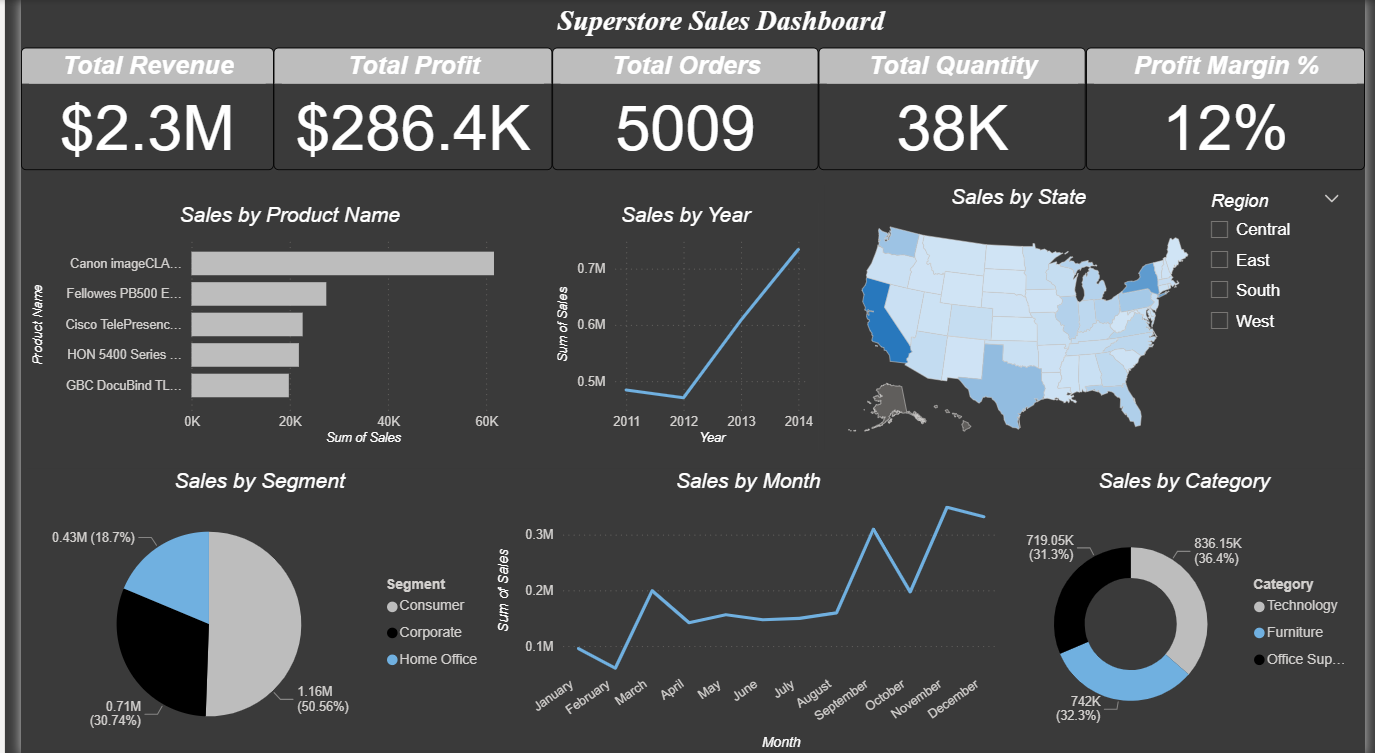

This screenshot's page, from the dashboard's own definition file:
{"tool":"powerbi","page":{"name":"Page 1","canvas":[1280,720],"ordinal":0},"visuals":[{"type":"card","title":"Total Revenue","fields":{"Values":["Superstore.Total Revenue"]},"box":[0,45.2,240.5,116.7],"z":0},{"type":"barChart","title":"Sales by Product Name","fields":{"Category":["Superstore.Product Name"],"Y":["Sum(Superstore.Sales)"]},"box":[6,192.9,500,235.7],"z":1000},{"type":"pieChart","title":"Sales by Segment","fields":{"Category":["Superstore.Segment"],"Y":["Sum(Superstore.Sales)"]},"box":[6.2,446.2,442.5,273.8],"z":2000},{"type":"card","title":"Total Profit","fields":{"Values":["Superstore.Total Profit"]},"box":[240.5,45.2,265.5,116.7],"z":3000},{"type":"card","title":"Profit Margin %","fields":{"Values":["Superstore.Profit Margin %"]},"box":[1014.3,45.2,265.5,116.7],"z":4000},{"type":"card","title":"Total Orders","fields":{"Values":["Superstore.Total Orders"]},"box":[506,45.2,253.6,116.7],"z":5000},{"type":"card","title":"Total Quantity","fields":{"Values":["Superstore.Total Quantity"]},"box":[759.5,45.2,254.8,116.7],"z":6000},{"type":"textbox","box":[506.2,0,331.2,45],"z":7000},{"type":"lineChart","title":"Sales by Year","fields":{"Y":["Sum(Superstore.Sales)"],"Category":["Superstore.Order Date.Variation.Date Hierarchy.Year"]},"box":[506,192.9,253.6,235.7],"z":8000},{"type":"lineChart","title":"Sales by Month","fields":{"Y":["Sum(Superstore.Sales)"],"Category":["Superstore.Order Date.Variation.Date Hierarchy.Month"]},"box":[448.8,446.2,487.5,273.8],"z":9000},{"type":"shapeMap","title":"Sales by State","fields":{"Category":["Superstore.State"],"Value":["Sum(Superstore.Sales)"]},"box":[765.5,176.2,369,252.4],"z":10000},{"type":"slicer","fields":{"Values":["Superstore.Region"]},"box":[1120,176.2,147.5,252.5],"z":11000},{"type":"donutChart","title":"Sales by Category","fields":{"Category":["Superstore.Category"],"Y":["Sum(Superstore.Sales)"]},"box":[936.2,446.2,343.8,273.8],"z":11001}]}

Visuals, with their boxes in screenshot pixels (x1, y1, x2, y2), scaled from the page's 1280x720 canvas onto the 1375x753 screenshot:
"Total Revenue" card: region(0, 47, 258, 169)
"Sales by Product Name" barChart: region(6, 202, 544, 448)
"Sales by Segment" pieChart: region(7, 467, 482, 752)
"Total Profit" card: region(258, 47, 544, 169)
"Profit Margin %" card: region(1090, 47, 1374, 169)
"Total Orders" card: region(544, 47, 816, 169)
"Total Quantity" card: region(816, 47, 1090, 169)
textbox: region(544, 0, 900, 47)
"Sales by Year" lineChart: region(544, 202, 816, 448)
"Sales by Month" lineChart: region(482, 467, 1006, 752)
"Sales by State" shapeMap: region(822, 184, 1219, 448)
slicer - Superstore.Region: region(1203, 184, 1362, 448)
"Sales by Category" donutChart: region(1006, 467, 1374, 752)
